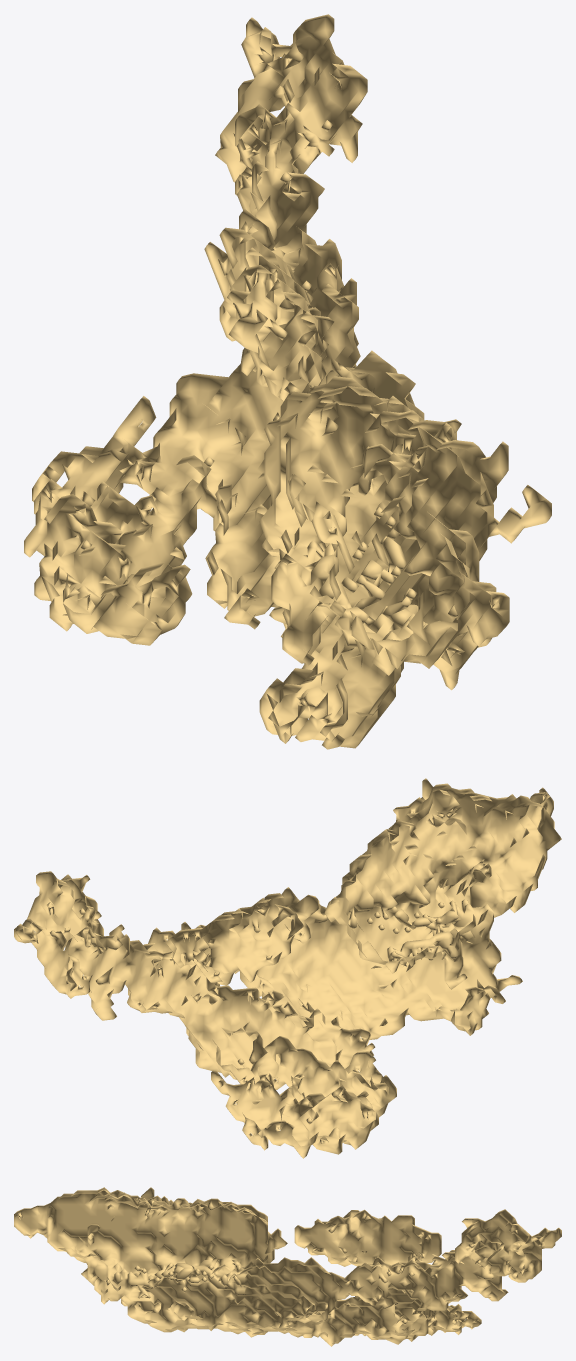
Rendered from osteocyte_74.glb.
3 views of the same model, one above another, from view 1: azimuth 30°, elevation 25°; view 2: azimuth 150°, elevation 25°; view 3: azimuth 270°, elevation 25° (orthographic). The views are drawn at different scales.
Parts seen in each view (by area): view 1: osteocyte_74; view 2: osteocyte_74; view 3: osteocyte_74.
Part boxes in pixels (x1=…): osteocyte_74: x1=24, y1=14, x2=551, y2=749; osteocyte_74: x1=14, y1=778, x2=561, y2=1158; osteocyte_74: x1=14, y1=1187, x2=561, y2=1346.
Size of the model in its own units: 16.85 by 17.33 by 39.48.
